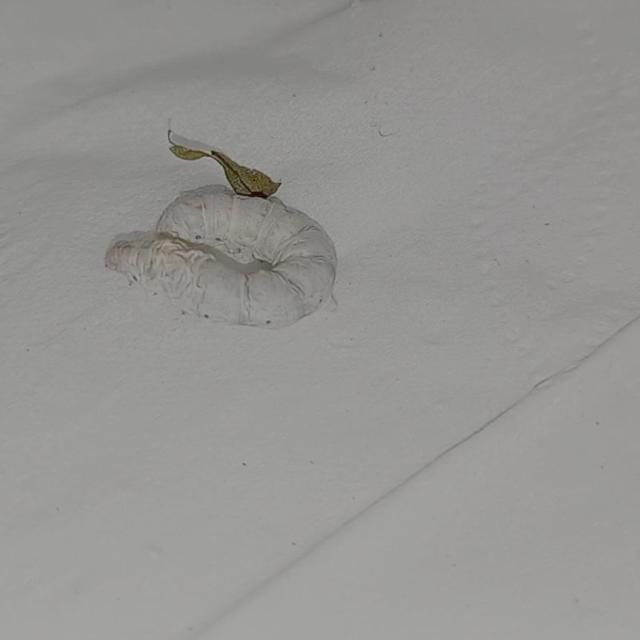Healthy: (82, 152, 370, 364)
